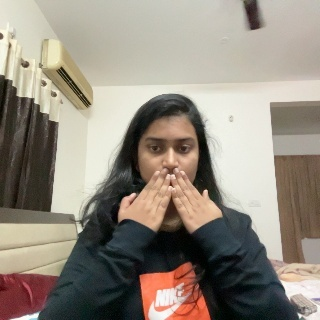Thank You: (112, 169, 235, 247)
